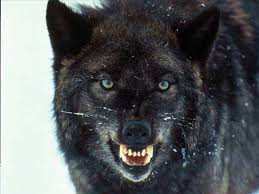Lobo: (37, 1, 231, 185)
